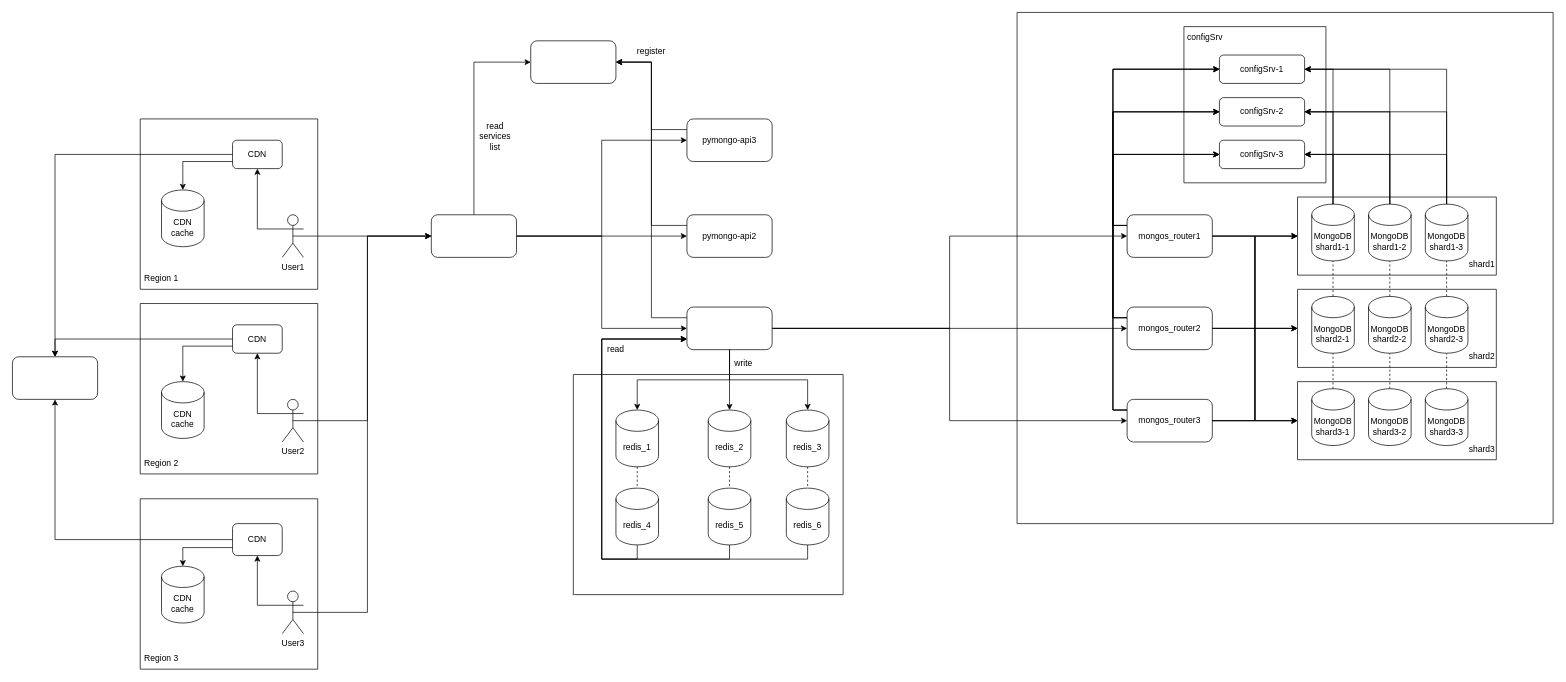
This 1566x682 diagram has some shape labels left out. The centre of each missing label's shape, as x and y in pixels:
"API Gateway" belongs at (x=474, y=235).
"Consul" belongs at (x=573, y=61).
"Global storage of static resources" belongs at (x=55, y=377).
"MongoDB" belongs at (x=1284, y=268).
"pymongo-api" belongs at (x=729, y=328).
"Redis Cache" belongs at (x=708, y=484).
